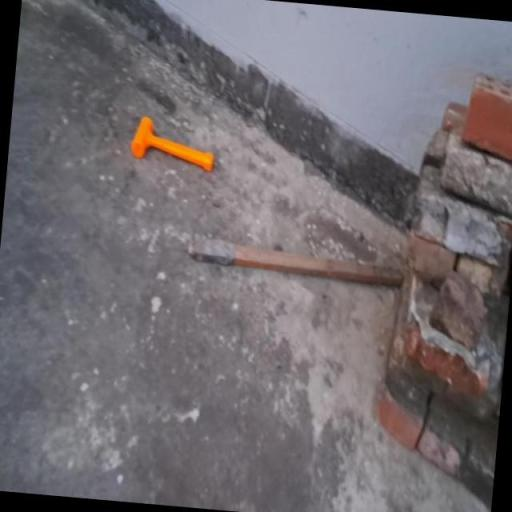mallet: (130, 115, 216, 172)
